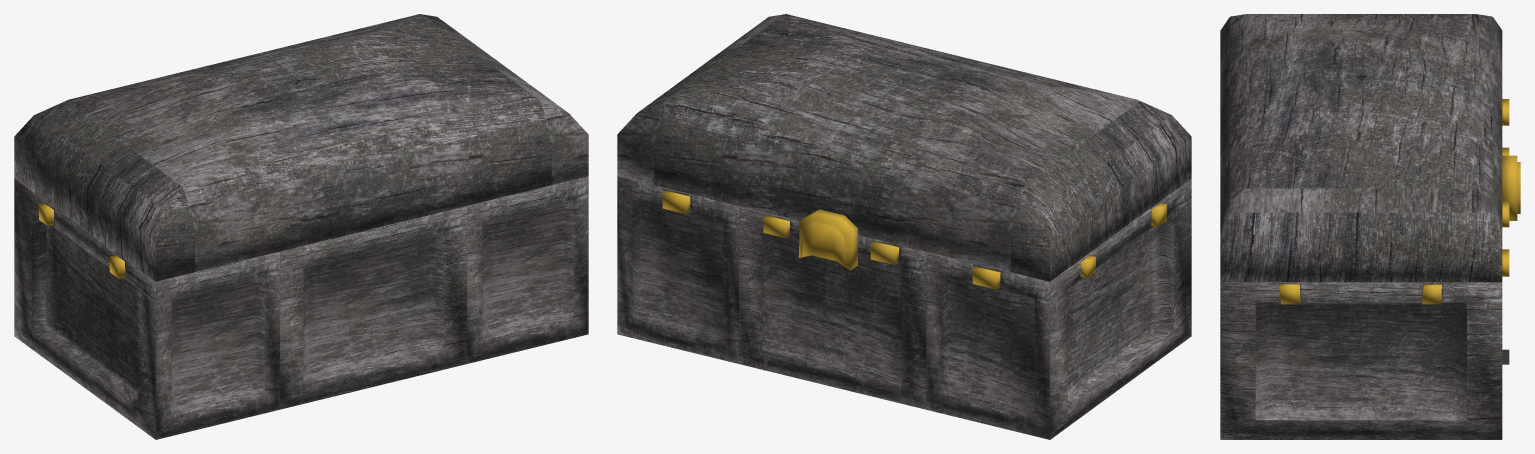
The model's file is chest.fbx.
3 views of the same model, side by side, from view 1: azimuth 30°, elevation 25°; view 2: azimuth 150°, elevation 25°; view 3: azimuth 270°, elevation 25° (orthographic).
Parts seen in each view (by area): view 1: Chest Top, Chest Bottom, Chest Decorations; view 2: Chest Top, Chest Bottom, Chest Lock, Chest Decorations; view 3: Chest Top, Chest Bottom, Chest Decorations, Chest Lock.
Boxes of the visible parts, bbox=[...] form: Chest Top: bbox=[14, 14, 588, 281]; Chest Bottom: bbox=[14, 176, 588, 439]; Chest Decorations: bbox=[38, 203, 125, 278]; Chest Top: bbox=[617, 14, 1191, 281]; Chest Bottom: bbox=[617, 176, 1191, 439]; Chest Lock: bbox=[798, 209, 857, 270]; Chest Decorations: bbox=[662, 190, 1166, 289]; Chest Top: bbox=[1220, 14, 1502, 282]; Chest Bottom: bbox=[1220, 282, 1509, 439]; Chest Decorations: bbox=[1279, 99, 1509, 304]; Chest Lock: bbox=[1502, 155, 1520, 220].
Bounding box in the file's own units: 473 × 259 × 277.
2 materials, 1 textured.
